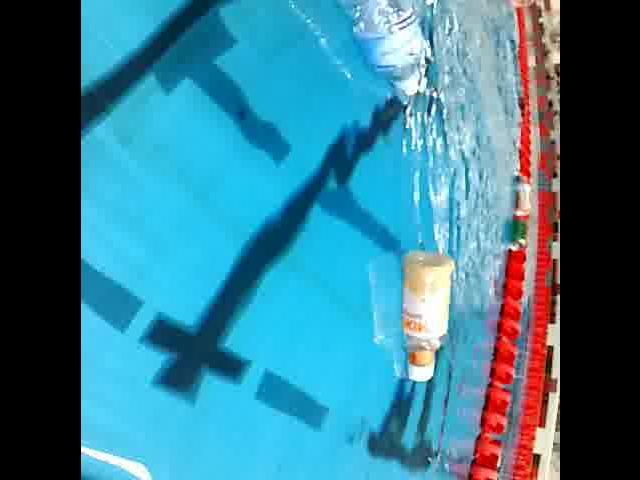Bottle: (292, 0, 432, 101), (391, 238, 458, 384)
Can: (508, 220, 528, 258)
